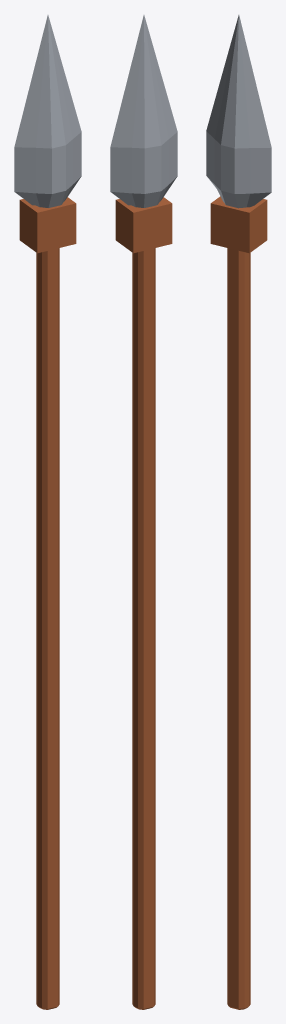
File: Spear_1.fbx
3 renders of one model, left to right at view 1: azimuth 30°, elevation 25°; view 2: azimuth 210°, elevation 25°; view 3: azimuth 330°, elevation 25°, orthographic.
Parts seen in each view (by area): view 1: Spear_1; view 2: Spear_1; view 3: Spear_1.
Part boxes in pixels (x1,y1,x2,y2): Spear_1: (14,15,81,1009); Spear_1: (110,15,177,1009); Spear_1: (206,15,271,1009).
Bounding box in the file's own units: 11.03 × 157 × 6.45.
